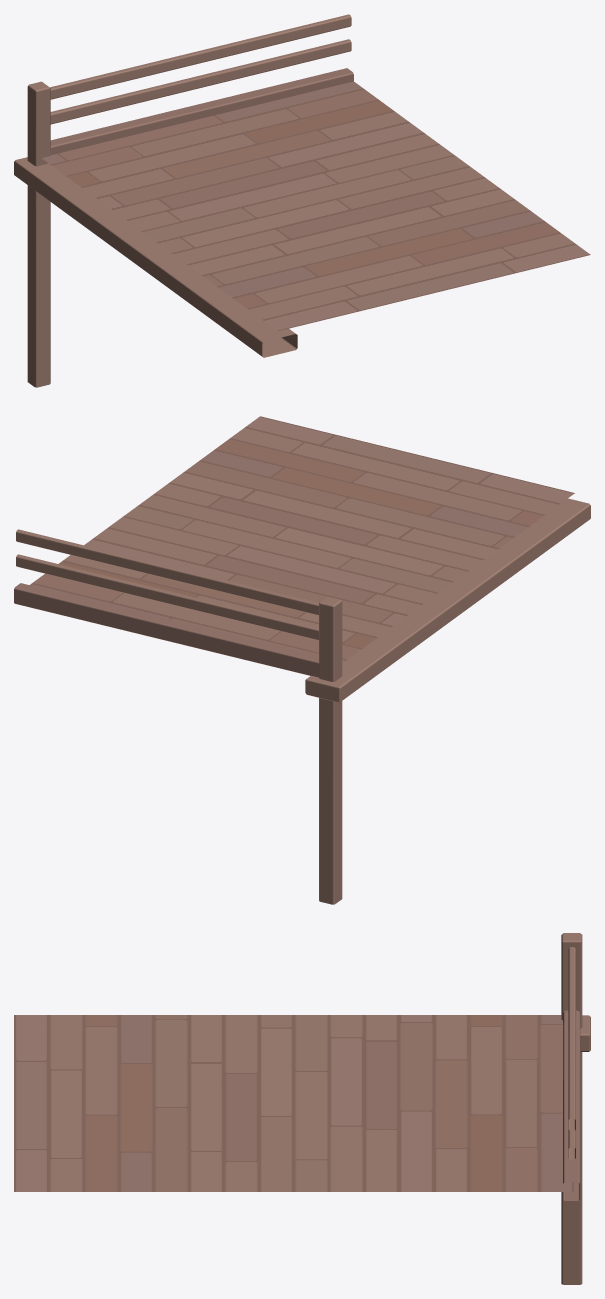
File: BoardWalkSide2Right.fbx
3 views of the same model, one above another, from view 1: azimuth 30°, elevation 25°; view 2: azimuth 150°, elevation 25°; view 3: azimuth 270°, elevation 25° (orthographic). The views are drawn at different scales.
Parts seen in each view (by area): view 1: BoardWalkSide2Right; view 2: BoardWalkSide2Right; view 3: BoardWalkSide2Right.
Part boxes in pixels (x1,y1,x2,y2): BoardWalkSide2Right: [14, 14, 590, 387]; BoardWalkSide2Right: [14, 416, 590, 904]; BoardWalkSide2Right: [14, 933, 590, 1284].
Size of the model in its own units: 628 by 542 by 824.
